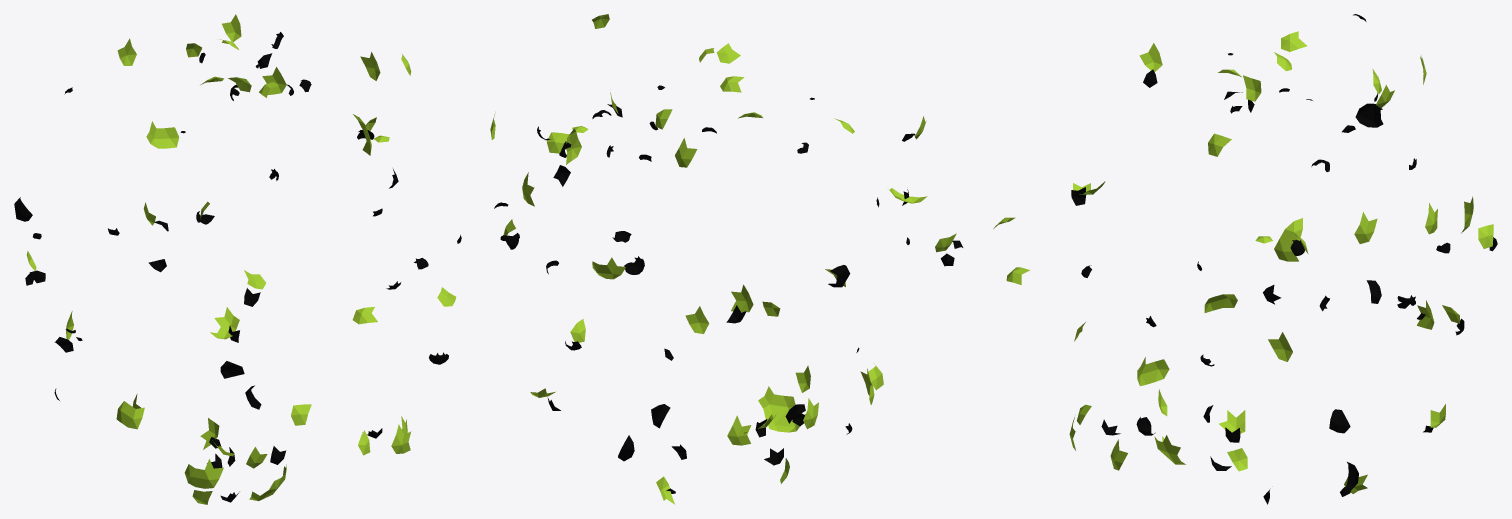
File: explode.f0018.glb
3 views of the same model, side by side, from view 1: azimuth 30°, elevation 25°; view 2: azimuth 150°, elevation 25°; view 3: azimuth 270°, elevation 25° (orthographic). The views are drawn at different scales.
Parts seen in each view (by area): view 1: Body.001; view 2: Body.001; view 3: Body.001.
Boxes of the visible parts, x1,y1,x2,y2 form: Body.001: (14,14,461,504); Body.001: (490,14,963,504); Body.001: (993,14,1497,504).
Bounding box in the file's own units: 13.82 × 14.2 × 14.16.
1 material, 1 textured.
